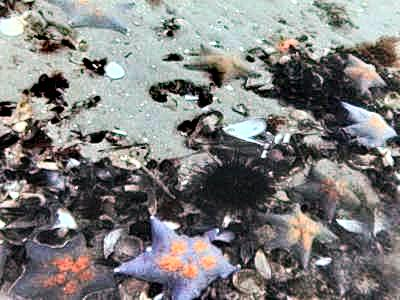urchin: (196, 153, 271, 213)
